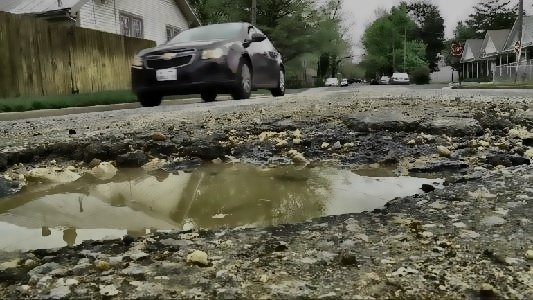pothole: (0, 107, 532, 256)
